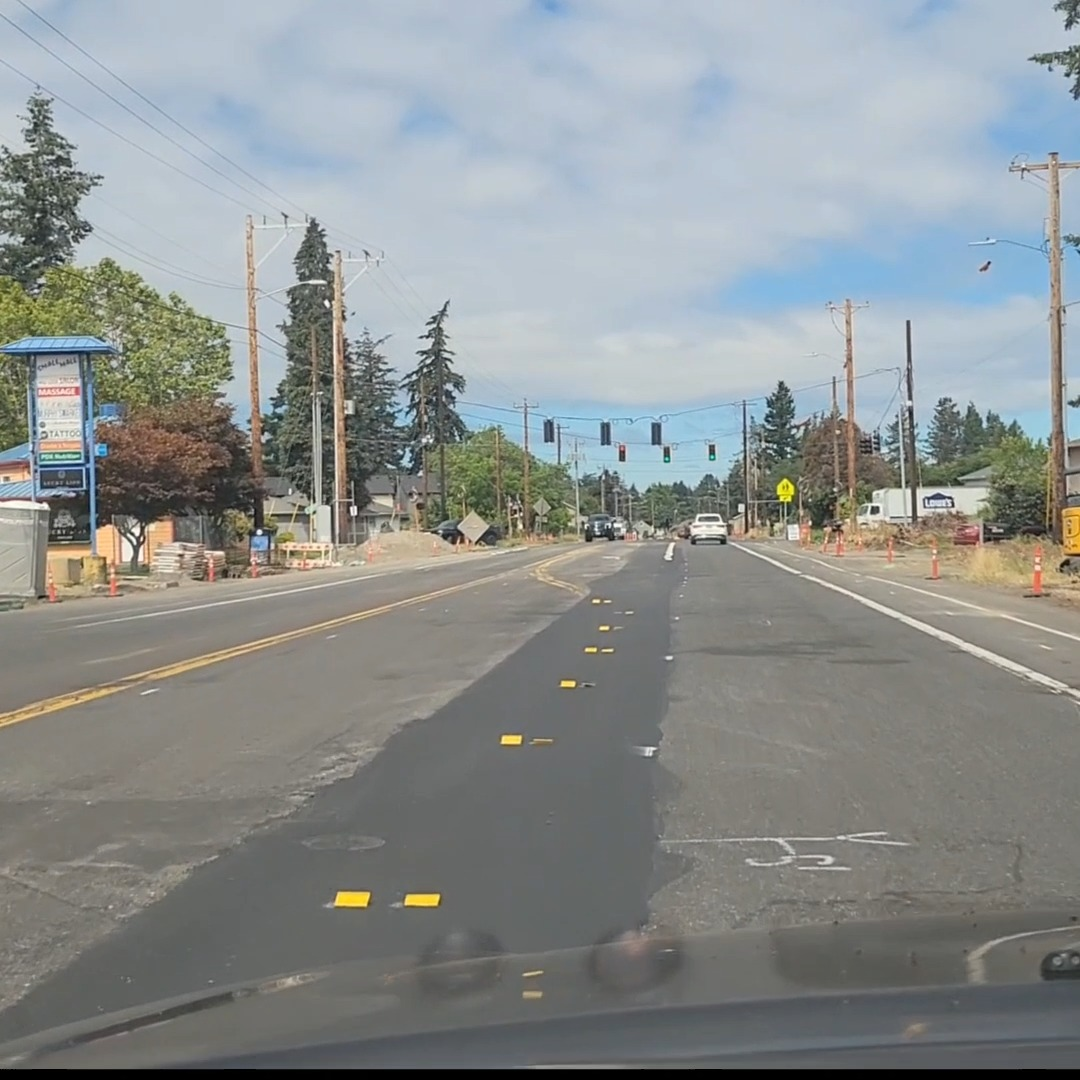car: (427, 517, 498, 545), (689, 513, 730, 543), (583, 513, 616, 541), (670, 520, 692, 538), (611, 518, 628, 539)
crosswalk-sign: (776, 478, 794, 501)
delineator: (1030, 545, 1044, 594), (46, 567, 60, 602), (928, 541, 940, 580), (107, 562, 118, 597), (833, 531, 843, 556), (250, 551, 259, 577), (886, 535, 894, 564), (207, 555, 215, 581), (111, 553, 118, 577), (431, 538, 439, 555), (854, 529, 862, 546)
